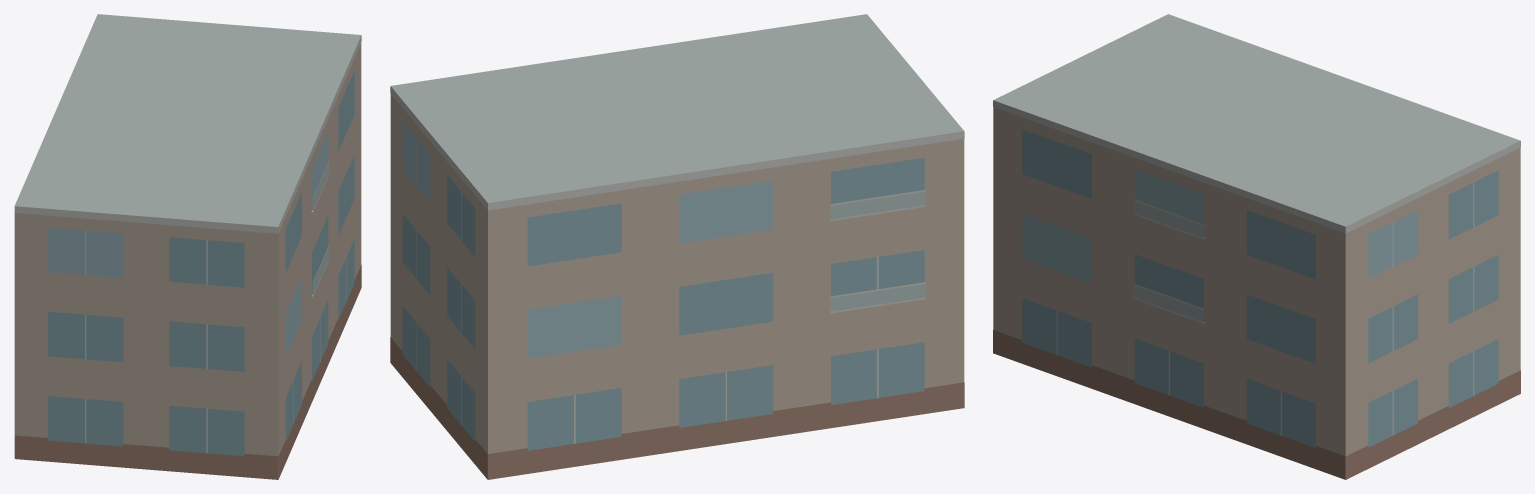
File: survey-upis-32708090.glb
The picture shows the model from 3 angles, left to right: view 1: azimuth 30°, elevation 25°; view 2: azimuth 150°, elevation 25°; view 3: azimuth 270°, elevation 25°; orthographic projection. The views are drawn at different scales.
Parts seen in each view (by area): view 1: survey-upis-32708090.tmp; view 2: survey-upis-32708090.tmp; view 3: survey-upis-32708090.tmp.
Boxes of the visible parts, box(x1,y1,x2,y2) form: survey-upis-32708090.tmp: box(14, 14, 361, 479); survey-upis-32708090.tmp: box(390, 14, 964, 479); survey-upis-32708090.tmp: box(993, 14, 1520, 479).
Size of the model in its own units: 16.51 by 9.15 by 17.3.
